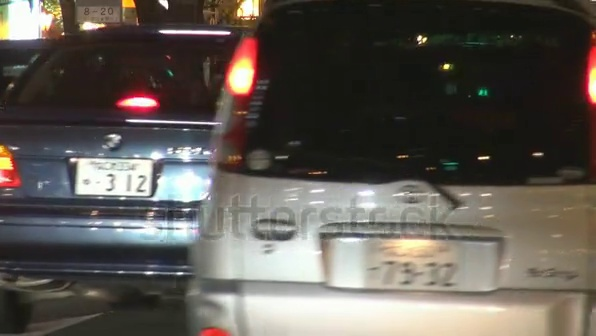licenseplate: (357, 242, 484, 294), (79, 159, 165, 191)
